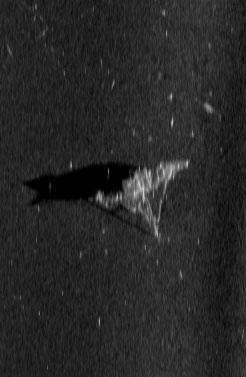ship: (86, 156, 191, 243)
